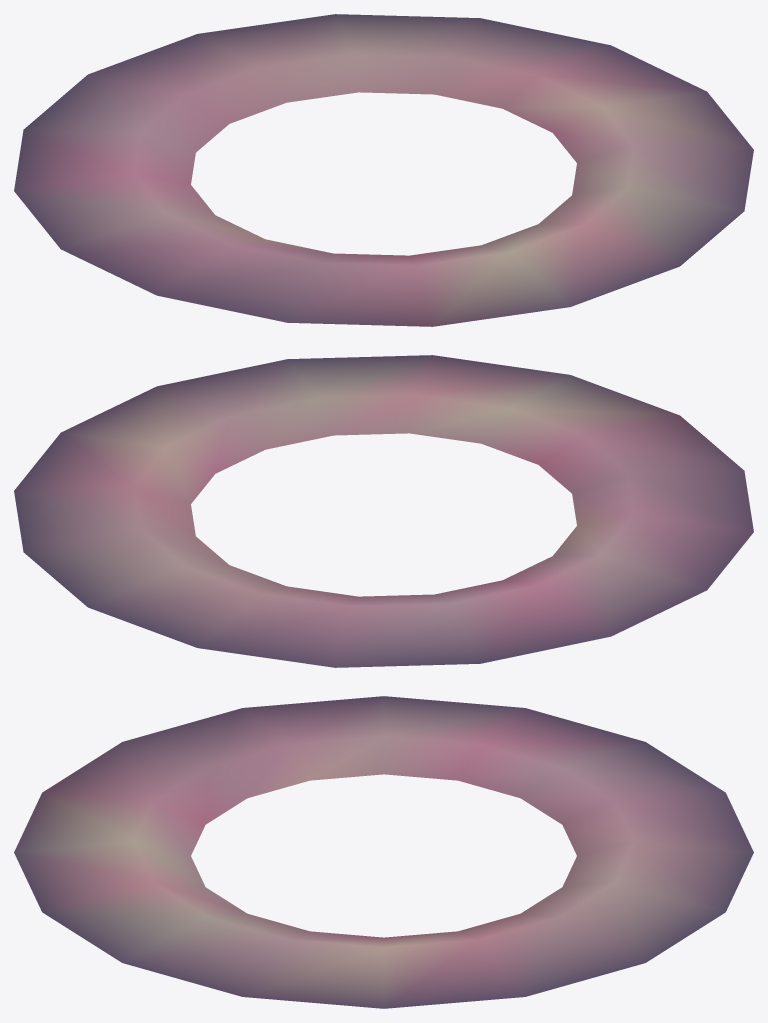
The model's file is space-galaxies-ring-galaxy_v7.glb.
3 renders of one model, top to bottom at view 1: azimuth 30°, elevation 25°; view 2: azimuth 150°, elevation 25°; view 3: azimuth 270°, elevation 25°, orthographic.
Parts seen in each view (by area): view 1: Ring Galaxy_v7; view 2: Ring Galaxy_v7; view 3: Ring Galaxy_v7.
Boxes of the visible parts, x1,y1,x2,y2 form: Ring Galaxy_v7: (14,14,753,326); Ring Galaxy_v7: (14,355,753,667); Ring Galaxy_v7: (14,696,753,1008).
Bounding box in the file's own units: 0.5 × 0.0175 × 0.5.
